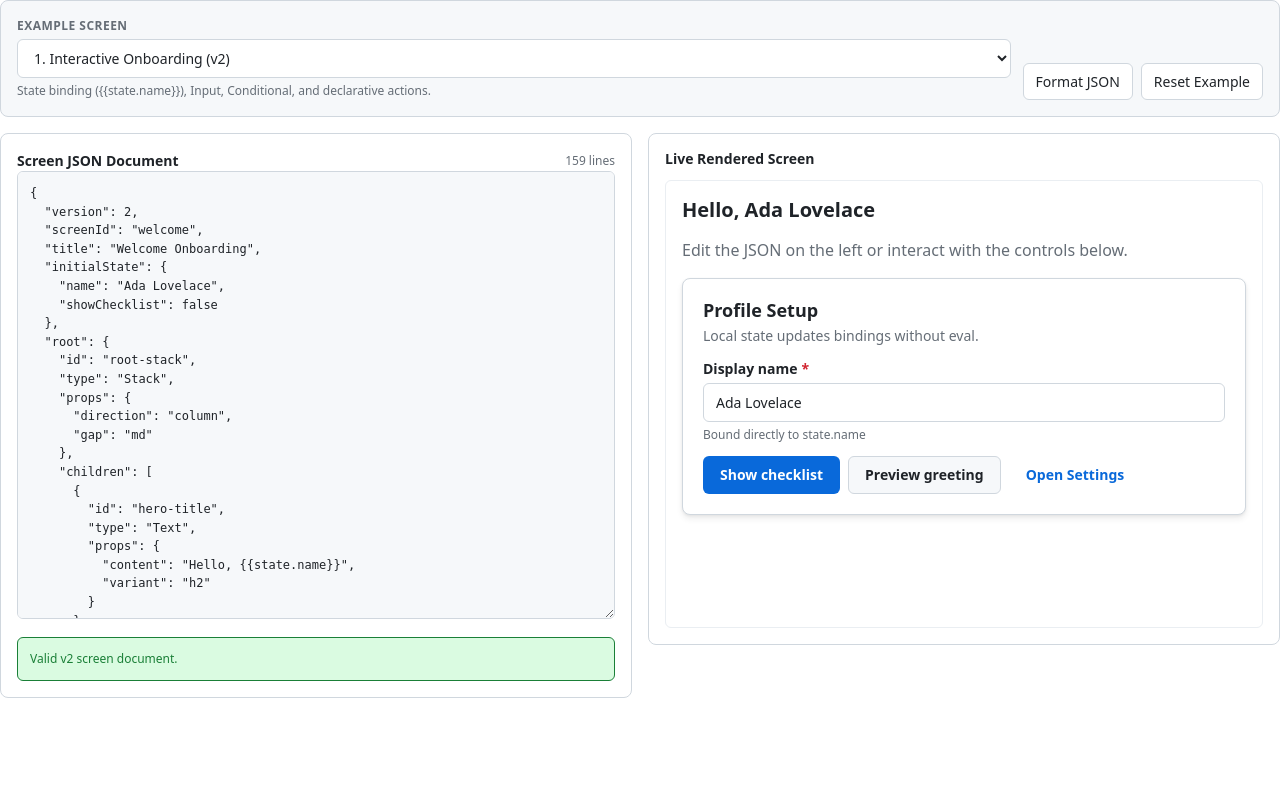
it: PlaygroundView › switches to the v1 example and displays the migration notice
This screenshot has width=1280, height=800.
Select "4. Legacy v1 Document (Auto-Migrated)" in the dropdown labelled "Example Screen": coordinates (514, 58) [17,39,1011,78]
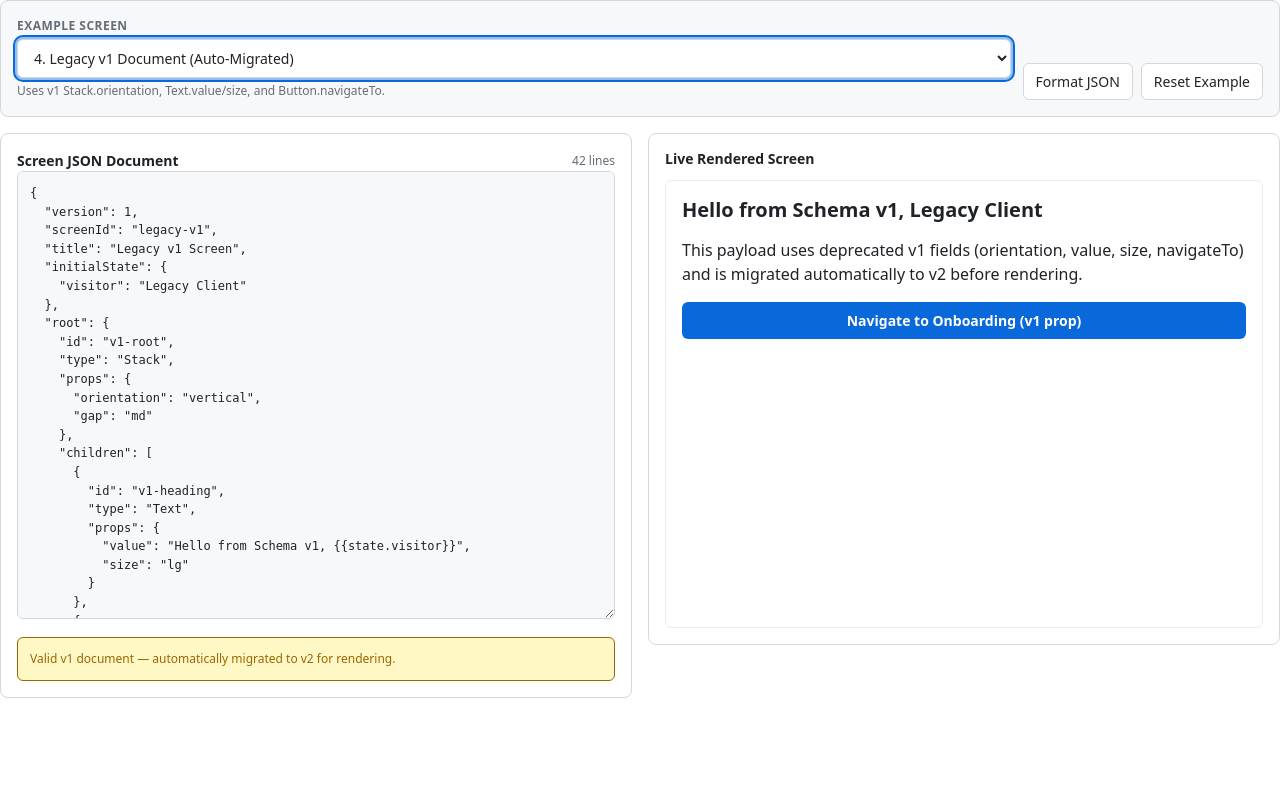
Check: the text "Valid v1 document — automatically migrated to v2 for rendering." is shown, box [17,637,615,681]
Check: the heading "Hello from Schema v1, Legacy Client" is shown, box [682,196,1043,222]
